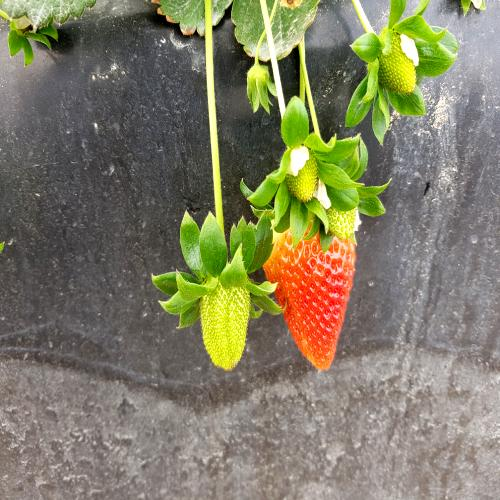ripe: (261, 201, 356, 375)
